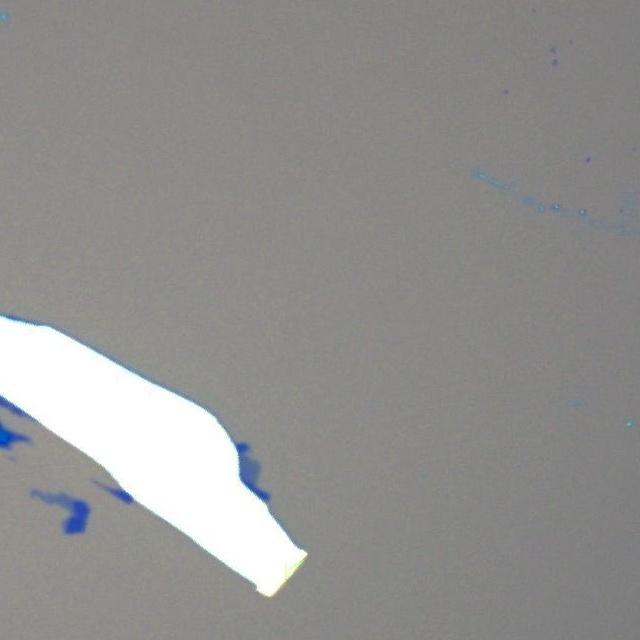monolayer-eWW4: (29, 485, 74, 511), (237, 452, 260, 486)
